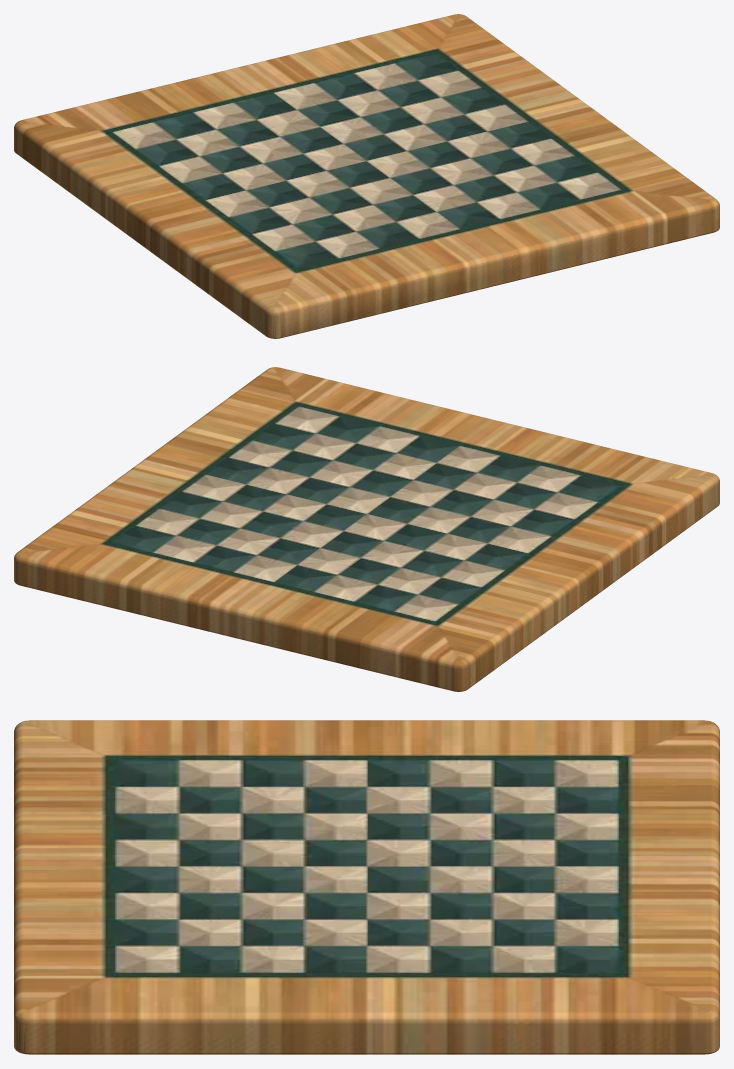
The model's file is greel_chessboard.glb.
3 views of the same model, one above another, from view 1: azimuth 30°, elevation 25°; view 2: azimuth 150°, elevation 25°; view 3: azimuth 270°, elevation 25° (orthographic). The views are drawn at different scales.
Visible parts, largest first — view 1: Chessboard; view 2: Chessboard; view 3: Chessboard.
Part boxes in pixels (x1,y1,x2,y2): Chessboard: (14, 14, 719, 338); Chessboard: (14, 367, 719, 691); Chessboard: (14, 720, 719, 1054).
Bounding box in the file's own units: 0.45 × 0.028 × 0.45.
Materials: 3 (3 with a texture image).
